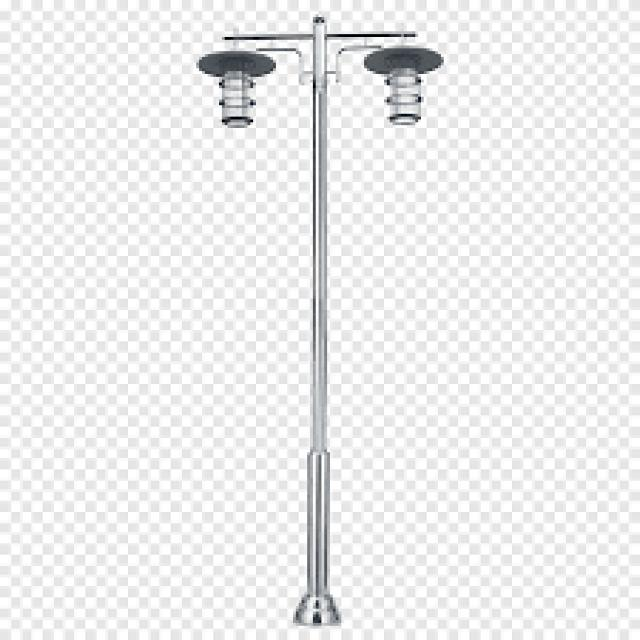Street Light: (196, 14, 444, 623)
